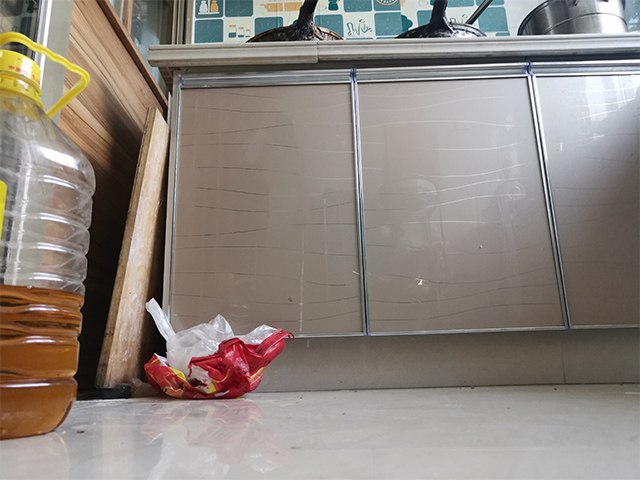cabinet: (154, 34, 639, 393)
